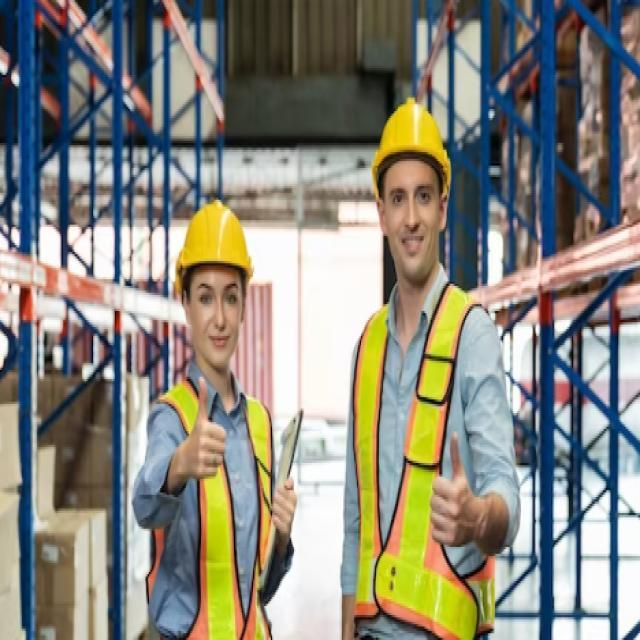hard_hat: (171, 192, 257, 368), (369, 97, 455, 264)
vest: (336, 277, 494, 640), (145, 363, 282, 640)
